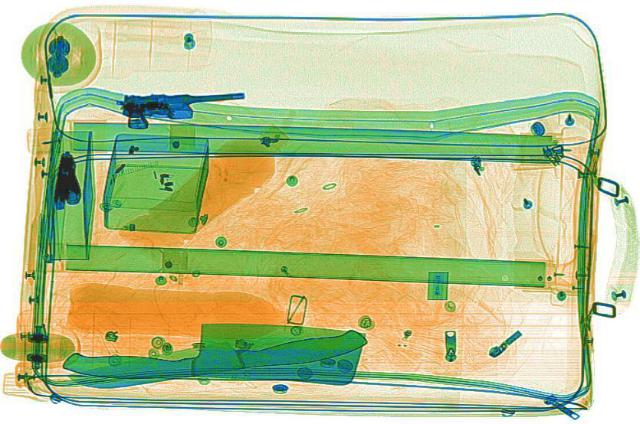Gun: (115, 85, 251, 130), (50, 150, 90, 209)
Knife: (55, 314, 368, 399), (57, 314, 365, 387)
